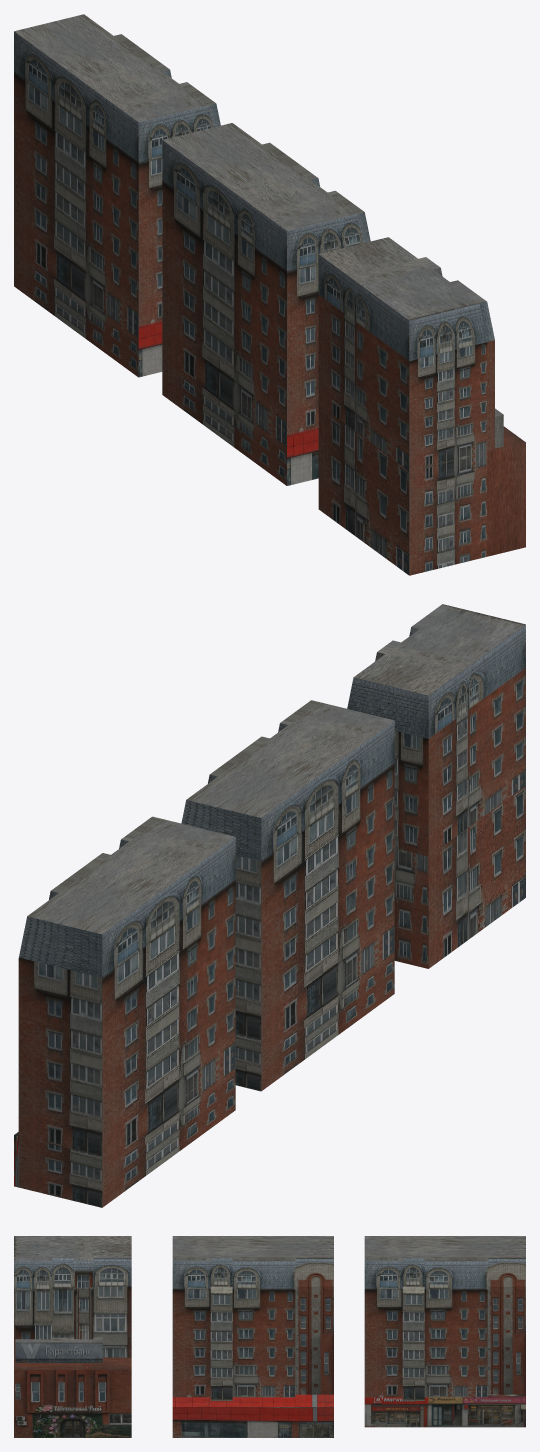
The model's file is russian_residential_blocks_spalny_rayon_psx.glb.
The picture shows the model from 3 angles, top to bottom: view 1: azimuth 30°, elevation 25°; view 2: azimuth 150°, elevation 25°; view 3: azimuth 270°, elevation 25°; orthographic projection. The views are drawn at different scales.
Visible parts, largest first — view 1: Cube.001, Cube, Cube.003; view 2: Cube.003, Cube, Cube.001; view 3: Cube, Cube.003, Cube.001.
Boxes of the visible parts, left/top/right/bottom form: Cube.001: left=318, top=237, right=525, bottom=575; Cube: left=162, top=123, right=370, bottom=485; Cube.003: left=14, top=14, right=220, bottom=377; Cube.003: left=14, top=816, right=235, bottom=1207; Cube: left=181, top=700, right=394, bottom=1091; Cube.001: left=347, top=604, right=525, bottom=968; Cube: left=172, top=1236, right=333, bottom=1437; Cube.003: left=364, top=1236, right=525, bottom=1427; Cube.001: left=14, top=1236, right=131, bottom=1437.
Size of the model in its own units: 3 by 6.26 by 17.6.
Materials: 1 (1 with a texture image).
